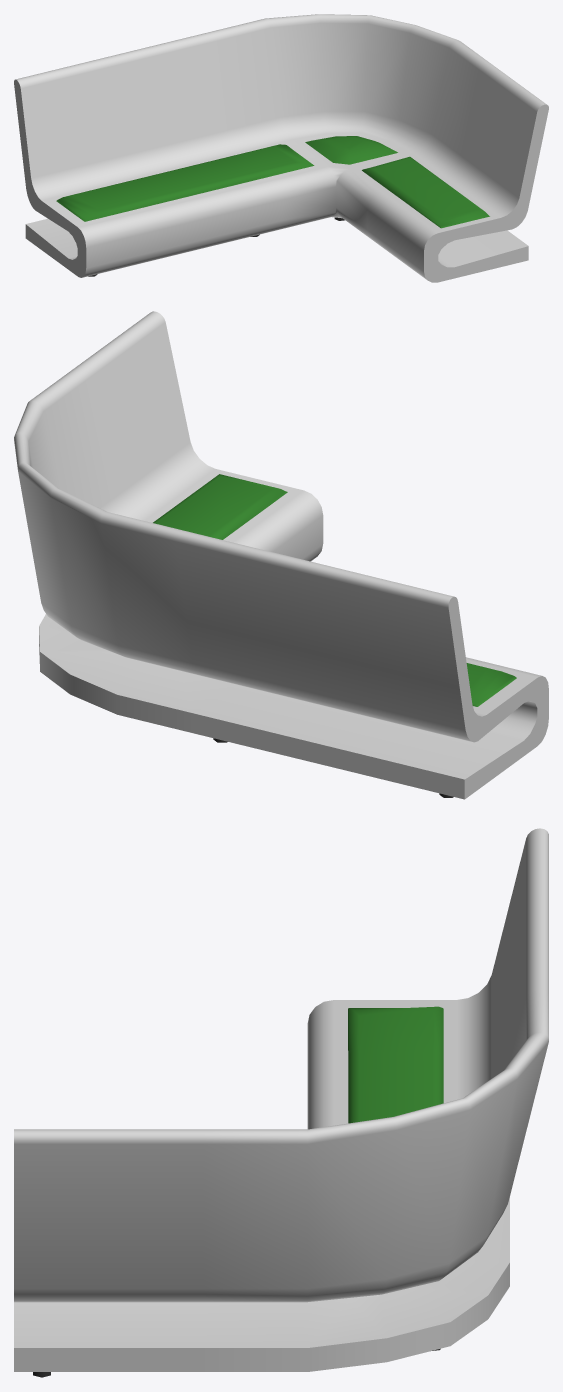
Rendered from Chair Corner.fbx.
3 views of the same model, one above another, from view 1: azimuth 30°, elevation 25°; view 2: azimuth 150°, elevation 25°; view 3: azimuth 270°, elevation 25° (orthographic). The views are drawn at different scales.
Parts seen in each view (by area): view 1: Chair A.004; view 2: Chair A.004; view 3: Chair A.004.
Part boxes in pixels (x1,y1,x2,y2): Chair A.004: (14, 14, 548, 282); Chair A.004: (14, 311, 548, 799); Chair A.004: (14, 828, 548, 1377).
Bounding box in the file's own units: 1.91 × 0.7635 × 1.41.
